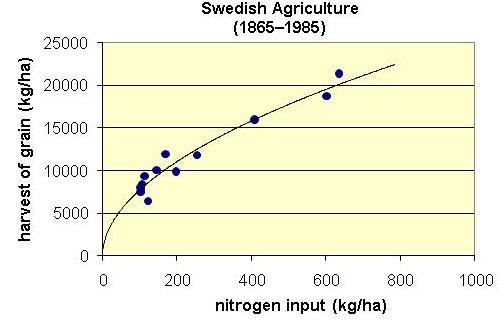axis: (102, 252, 480, 265), (95, 40, 106, 260)
point: (245, 113, 264, 128), (189, 147, 206, 162), (332, 65, 347, 81), (318, 90, 335, 104), (142, 195, 153, 207), (159, 149, 172, 159), (150, 165, 162, 175), (135, 186, 147, 196), (138, 172, 151, 181), (172, 166, 182, 177), (136, 179, 148, 187)
